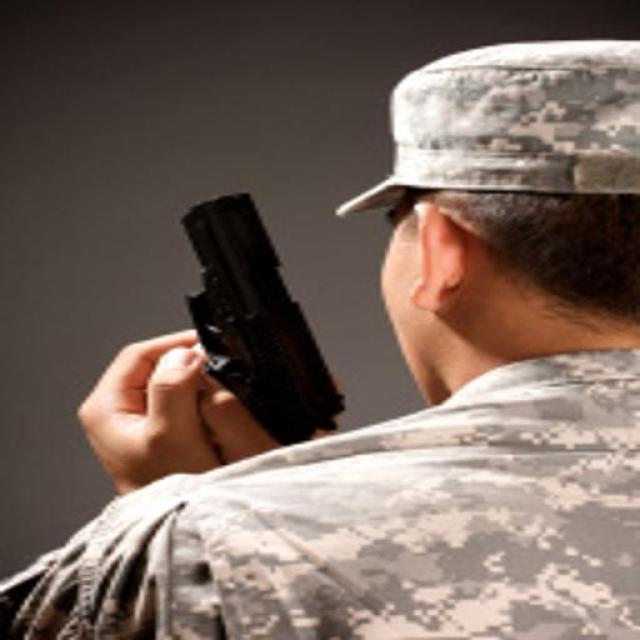pistol: (119, 199, 373, 433)
